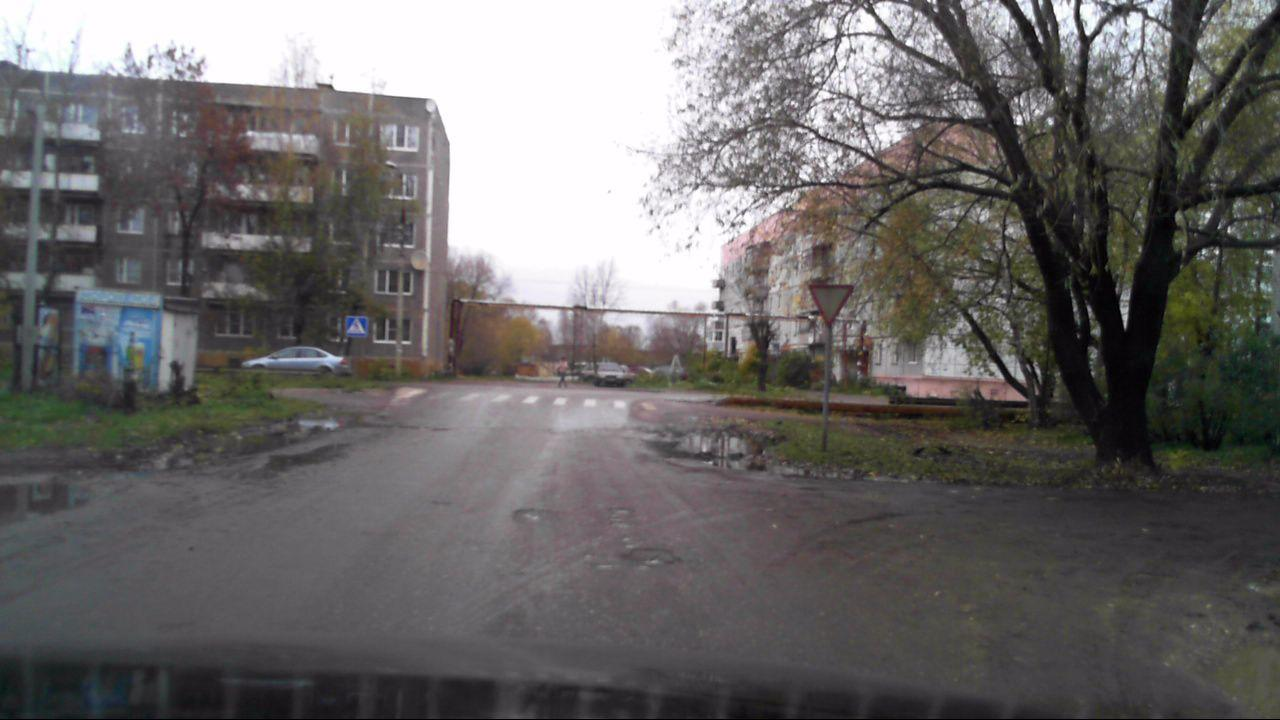2_4: (806, 283, 856, 329)
5_15_2: (346, 314, 367, 336)
